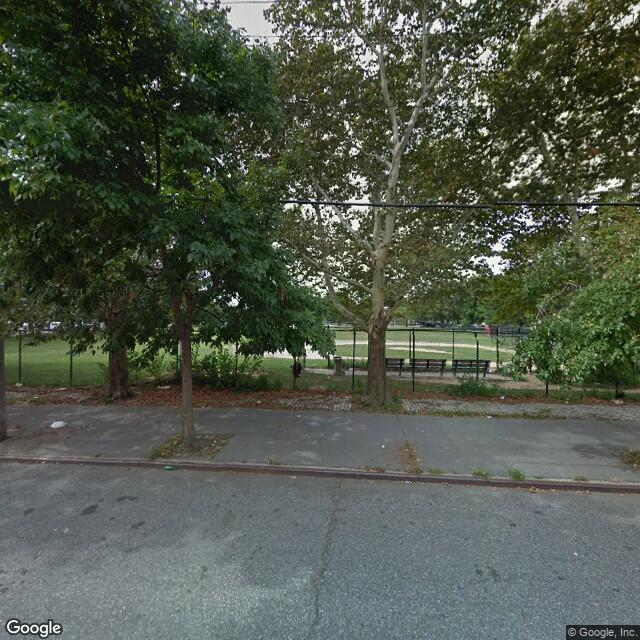litter: (50, 419, 65, 427), (612, 397, 625, 406), (155, 384, 171, 387), (165, 465, 176, 469), (289, 475, 297, 480), (257, 398, 261, 401), (405, 479, 409, 482), (486, 414, 491, 416), (500, 395, 502, 399), (15, 383, 22, 384), (295, 413, 302, 414), (383, 444, 384, 450)
